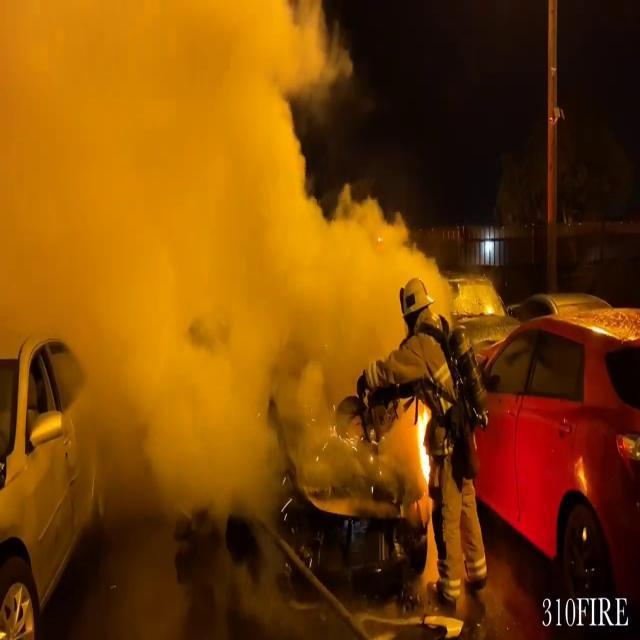Fire: (412, 398, 436, 498)
Smoke: (12, 1, 414, 519)
